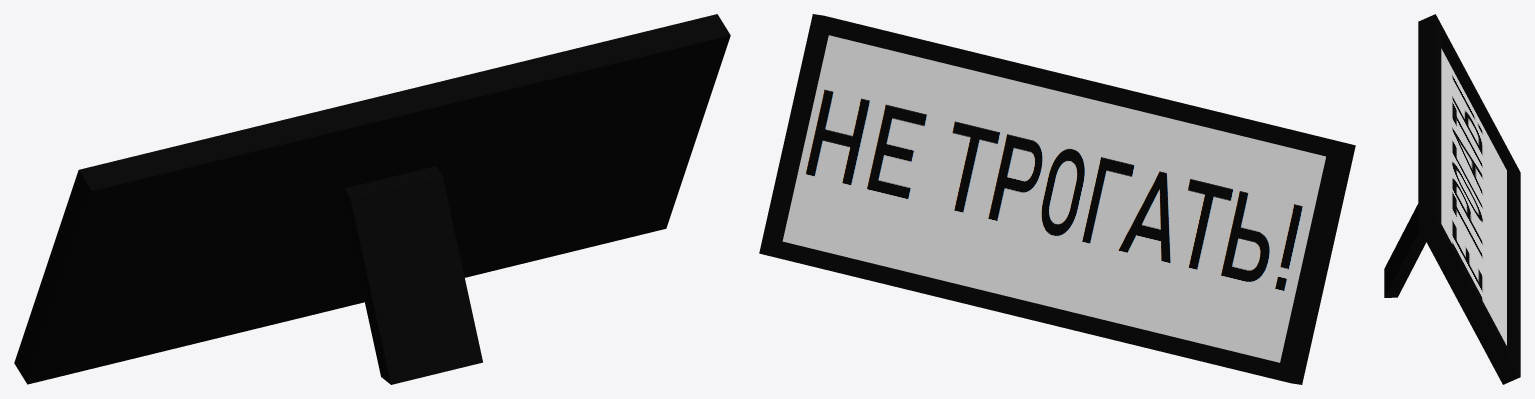
Rendered from tablet.fbx.
3 views of the same model, side by side, from view 1: azimuth 30°, elevation 25°; view 2: azimuth 150°, elevation 25°; view 3: azimuth 270°, elevation 25° (orthographic). The views are drawn at different scales.
Parts seen in each view (by area): view 1: Cube; view 2: Cube; view 3: Cube.
Part boxes in pixels (x1=…): Cube: x1=14, y1=14, x2=730, y2=384; Cube: x1=759, y1=14, x2=1355, y2=384; Cube: x1=1384, y1=14, x2=1520, y2=384.
Bounding box in the file's own units: 25 × 9.48 × 7.01.
2 materials, 1 textured.
